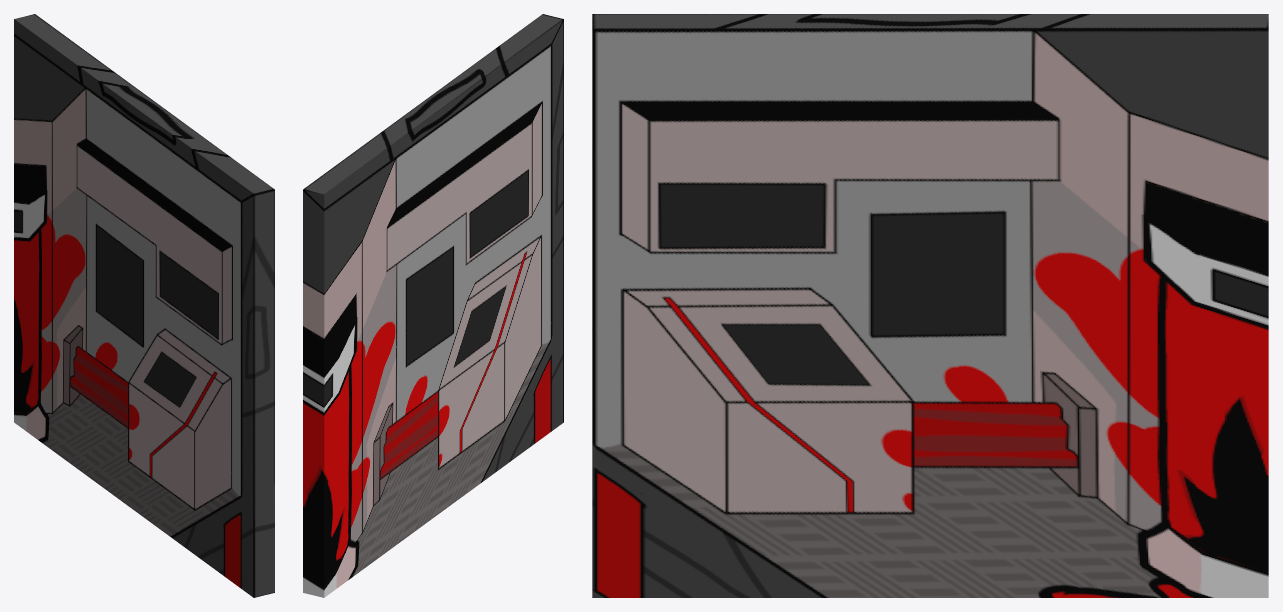
The model's file is wall1.fbx.
The picture shows the model from 3 angles, left to right: view 1: azimuth 30°, elevation 25°; view 2: azimuth 150°, elevation 25°; view 3: azimuth 270°, elevation 25°; orthographic projection. The views are drawn at different scales.
Parts seen in each view (by area): view 1: Cube.014; view 2: Cube.014; view 3: Cube.014.
Boxes of the visible parts, <box> form: Cube.014: <box>14,14,274,597</box>; Cube.014: <box>303,14,563,597</box>; Cube.014: <box>592,14,1268,597</box>.
Size of the model in its own units: 20.25 by 371 by 400.
